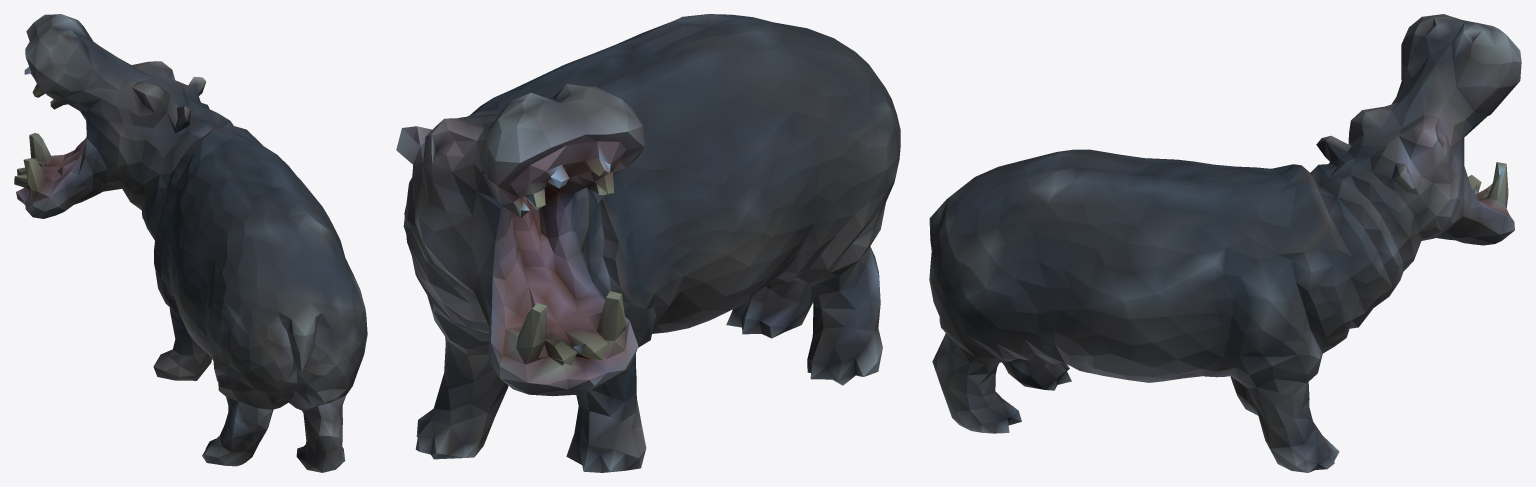
The picture shows the model from 3 angles, left to right: view 1: azimuth 30°, elevation 25°; view 2: azimuth 150°, elevation 25°; view 3: azimuth 270°, elevation 25°; orthographic projection. The views are drawn at different scales.
Visible parts, largest first — view 1: Model; view 2: Model; view 3: Model.
Part boxes in pixels (x1,y1,x2,y2): Model: (14,14,367,472); Model: (396,14,900,472); Model: (929,14,1521,472).
Size of the model in its own units: 0.4484 by 0.6708 by 0.9847.
